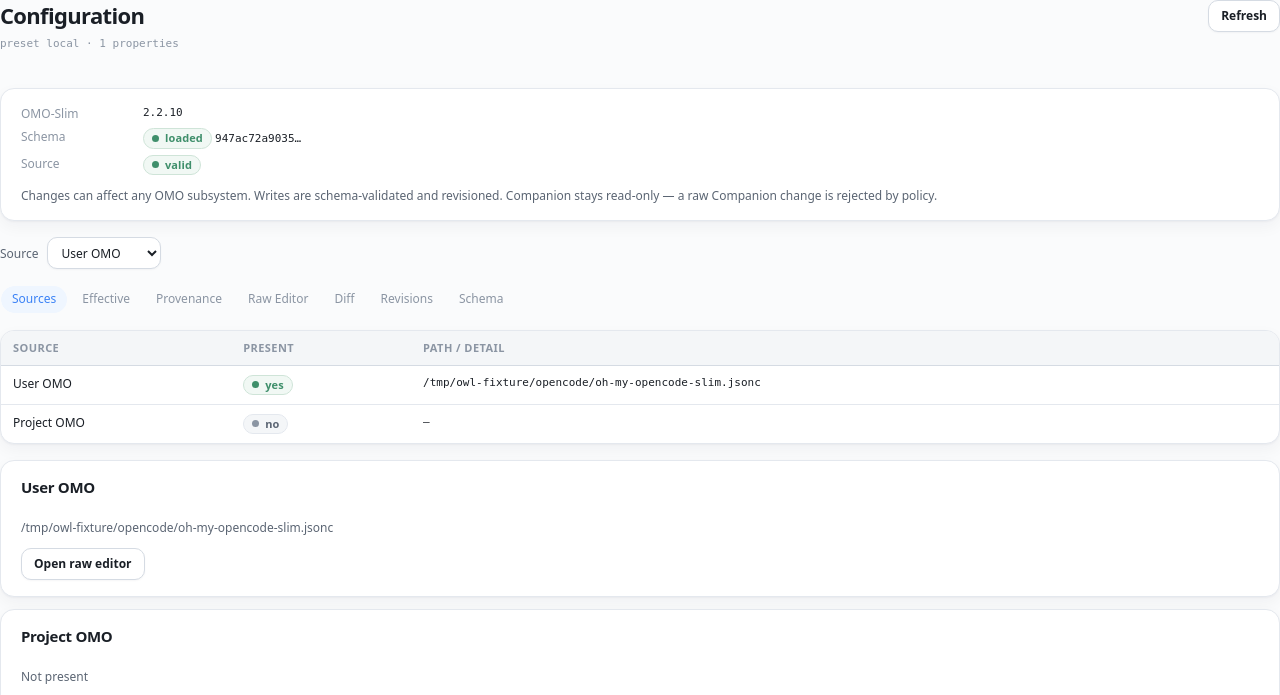
Configuration workspace › source selector loads user/project and missing project is explicit create-only
Select "Project OMO" in the dropdown with test id "config-scope" at (104, 253), box x1=46 y1=237 x2=160 y2=269
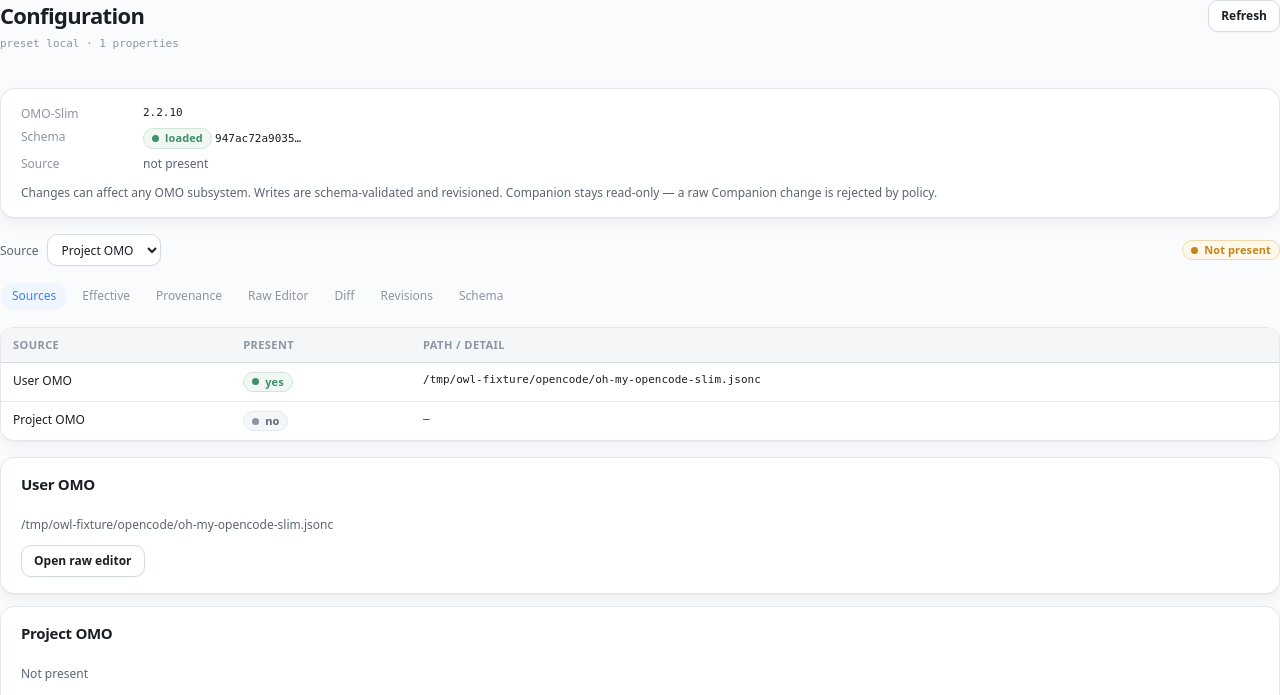
Click the button with test id "config-tab-raw" at (278, 296), box x1=237 y1=283 x2=320 y2=310
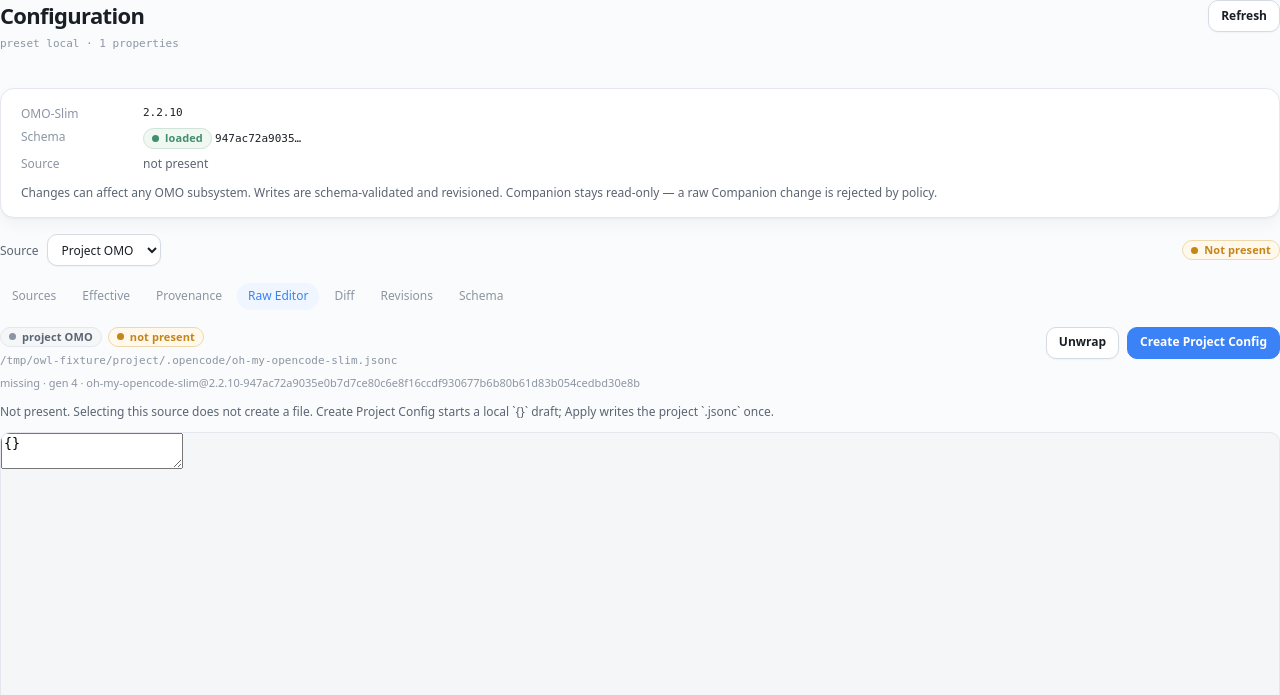
Result: the button with test id "config-create-project" is shown at x1=1127 y1=327 x2=1279 y2=359
